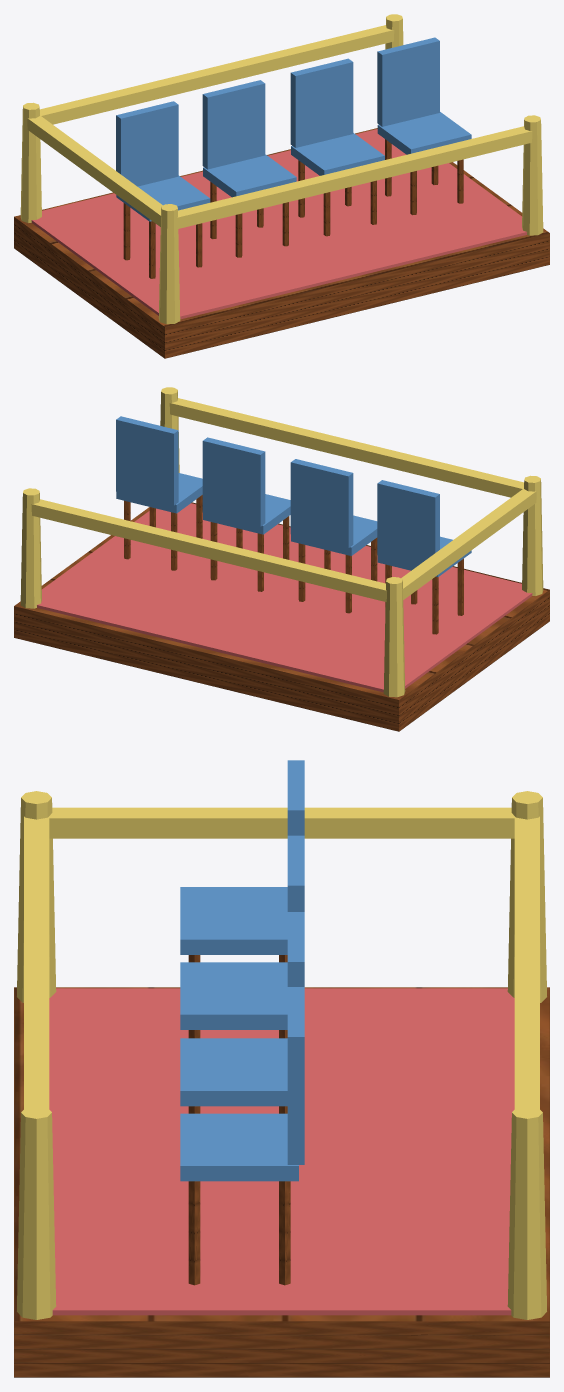
The model's file is travelling-circus-and-big-top-ringside-box-d0aa1d9f__36238.glb.
3 views of the same model, one above another, from view 1: azimuth 30°, elevation 25°; view 2: azimuth 150°, elevation 25°; view 3: azimuth 270°, elevation 25° (orthographic). The views are drawn at different scales.
Parts seen in each view (by area): view 1: ringside-box-stripe, ringside-box-azure, ringside-box-timber, ringside-box-gold; view 2: ringside-box-stripe, ringside-box-timber, ringside-box-gold, ringside-box-azure; view 3: ringside-box-stripe, ringside-box-gold, ringside-box-timber, ringside-box-azure.
Boxes of the visible parts, x1,y1,x2,y2 form: ringside-box-stripe: [31, 129, 526, 319]; ringside-box-azure: [116, 37, 471, 221]; ringside-box-timber: [14, 128, 549, 358]; ringside-box-gold: [20, 14, 543, 324]; ringside-box-stripe: [37, 503, 532, 692]; ringside-box-timber: [14, 495, 549, 731]; ringside-box-gold: [20, 387, 543, 697]; ringside-box-azure: [116, 416, 471, 576]; ringside-box-stripe: [49, 988, 514, 1315]; ringside-box-gold: [17, 791, 546, 1319]; ringside-box-timber: [14, 955, 549, 1377]; ringside-box-azure: [180, 760, 304, 1181].
Size of the model in its own units: 2.8 by 1.22 by 1.9.
Materials: 4 (1 with a texture image).
